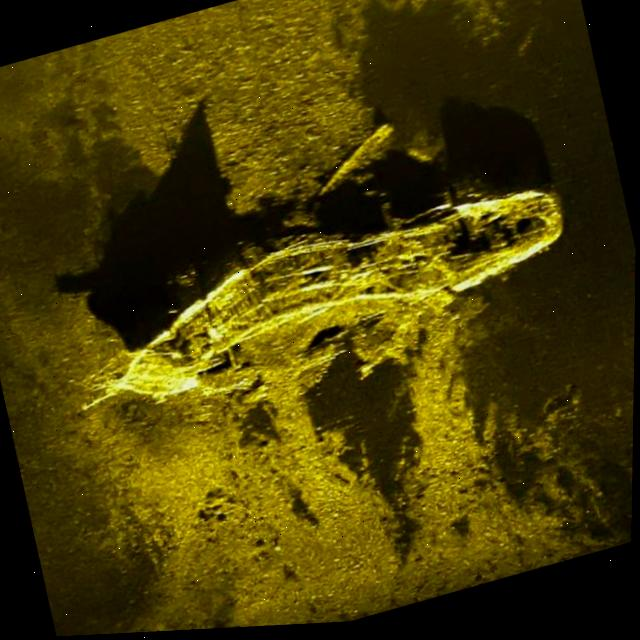shipwreck: (87, 161, 592, 425)
